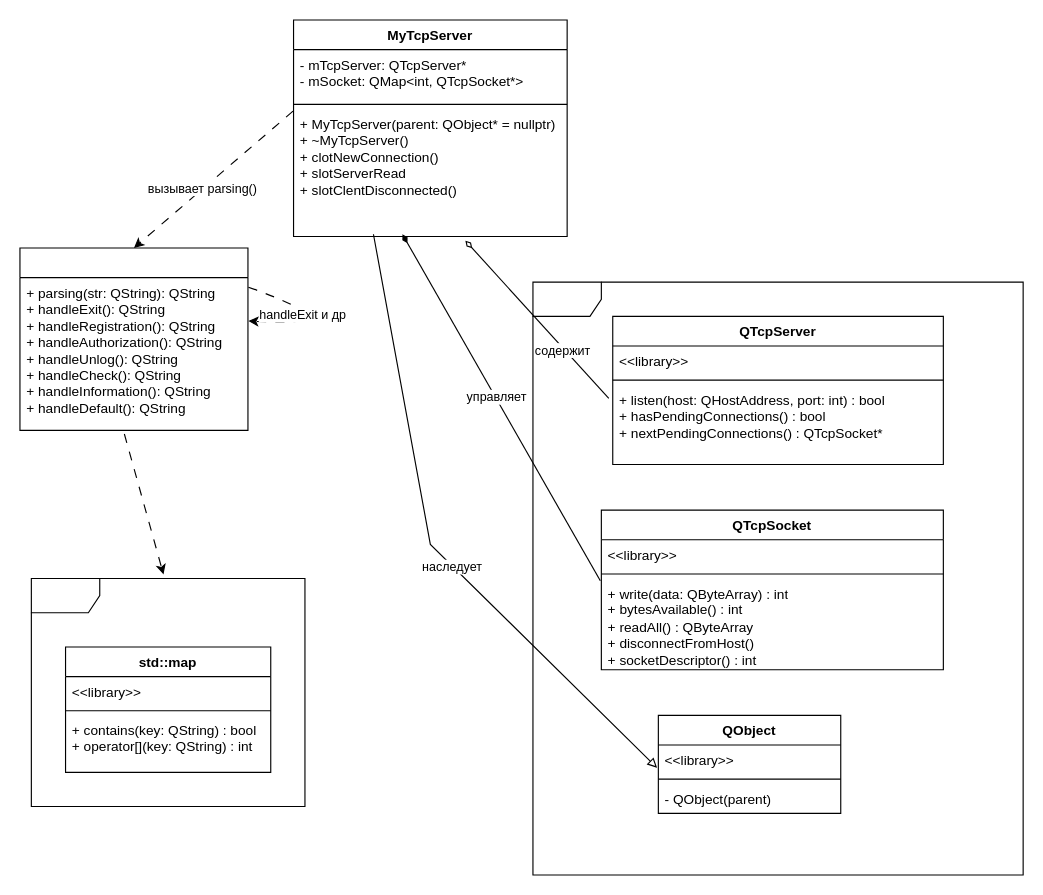
Some shapes in this 1043 by 895 pixel diagram are drawn without their labels. The box of each missing label's shape, as (x1, y1, x2, y2) in pixels:
ServerFunction: (19, 247, 248, 430)
Библиотека QT: (532, 281, 1023, 875)
Библиотека STL: (30, 577, 305, 807)
